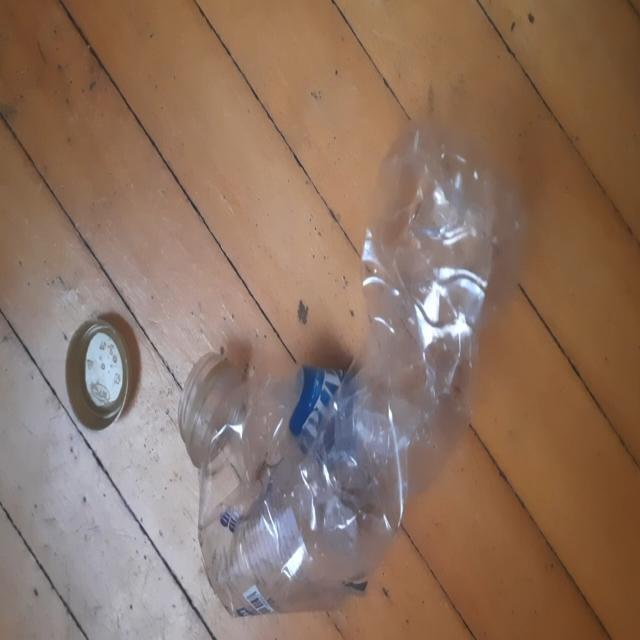Plastic: (180, 121, 523, 618)
